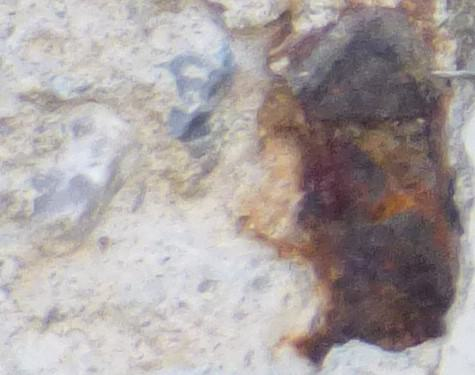Corrosion: (236, 1, 475, 375)
